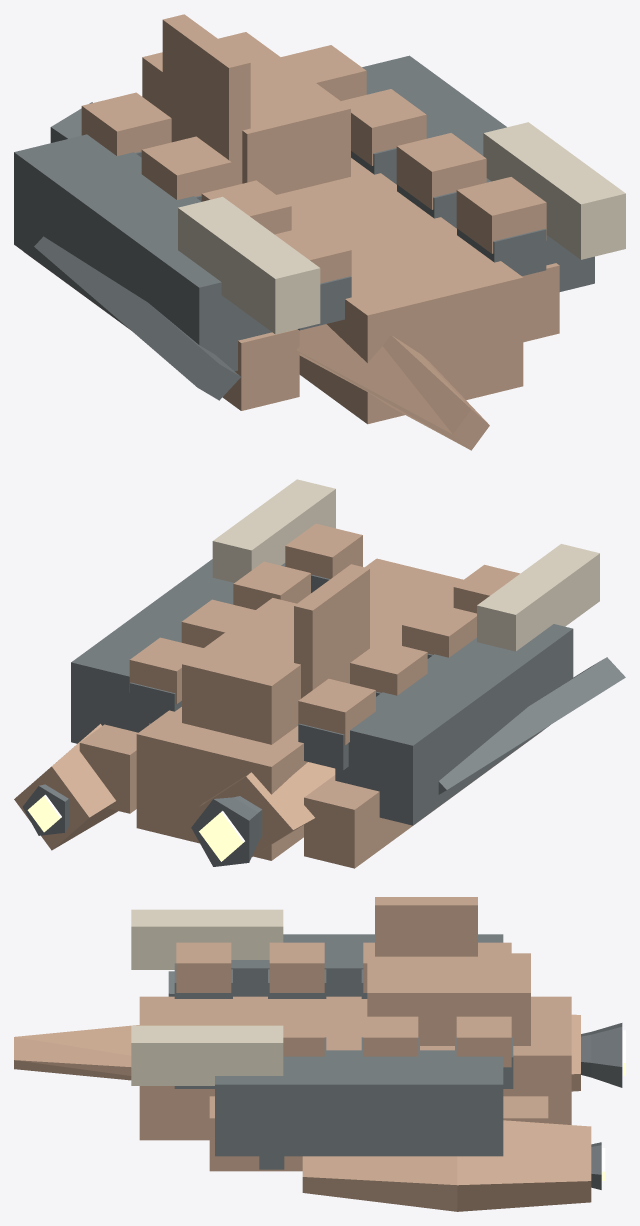
3 views of the same model, one above another, from view 1: azimuth 30°, elevation 25°; view 2: azimuth 150°, elevation 25°; view 3: azimuth 270°, elevation 25° (orthographic). The views are drawn at different scales.
Bounding box in the file's own units: 13.77 × 8.6 × 20.95.
